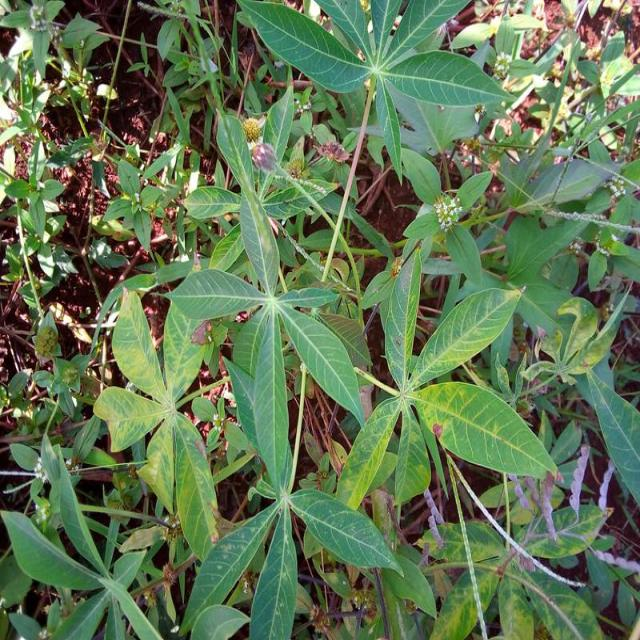cassava leaf: (412, 285, 523, 386)
